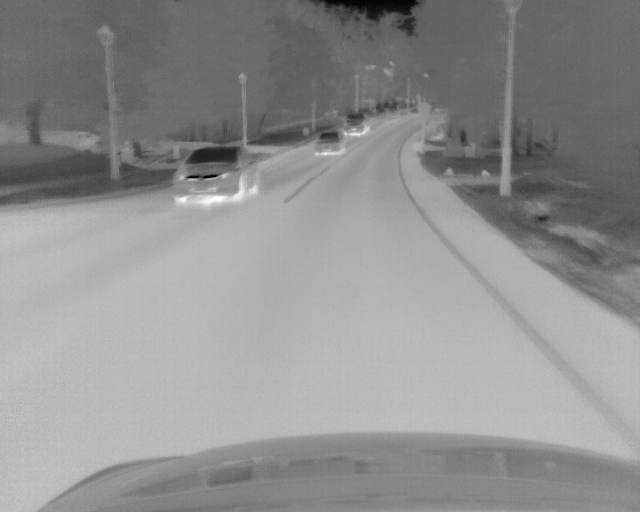car: (174, 145, 260, 203), (312, 130, 347, 156), (342, 111, 370, 136)
